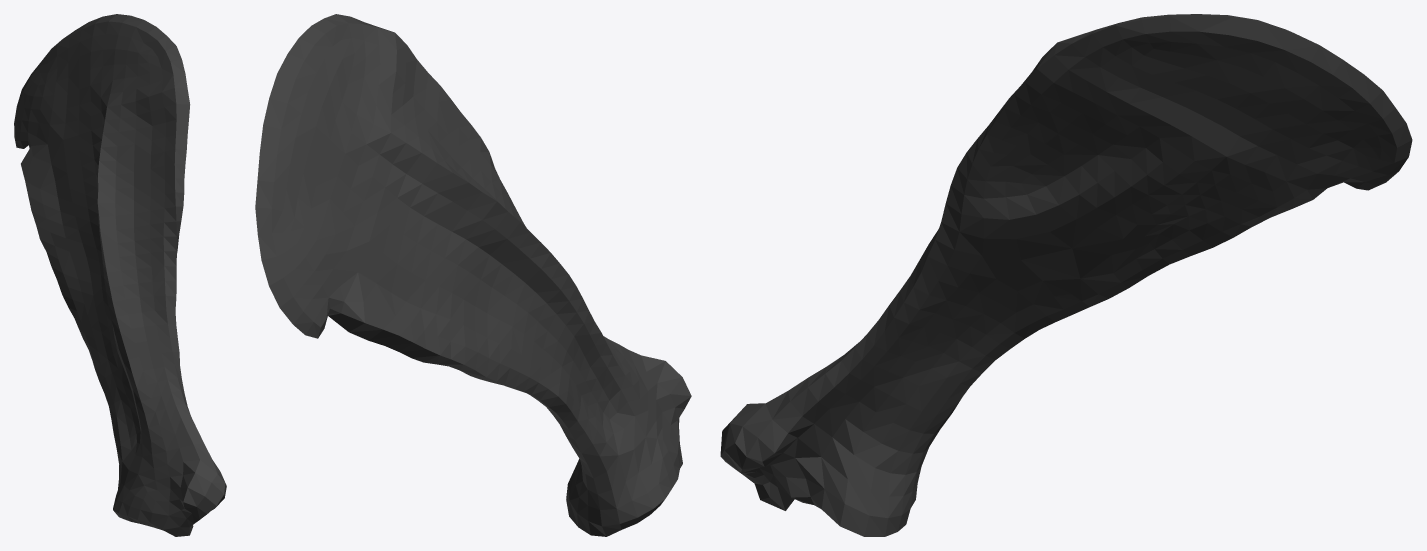
The model's file is Scapula_R.glb.
The picture shows the model from 3 angles, left to right: view 1: azimuth 30°, elevation 25°; view 2: azimuth 150°, elevation 25°; view 3: azimuth 270°, elevation 25°; orthographic projection. The views are drawn at different scales.
Parts seen in each view (by area): view 1: Scapula_R; view 2: Scapula_R; view 3: Scapula_R.
Part boxes in pixels (<box>): Scapula_R: <box>14,14,226,536</box>; Scapula_R: <box>255,14,691,536</box>; Scapula_R: <box>720,14,1412,536</box>.
Size of the model in its own units: 0.1774 by 0.466 by 0.4996.
Materials: 1 (1 with a texture image).
